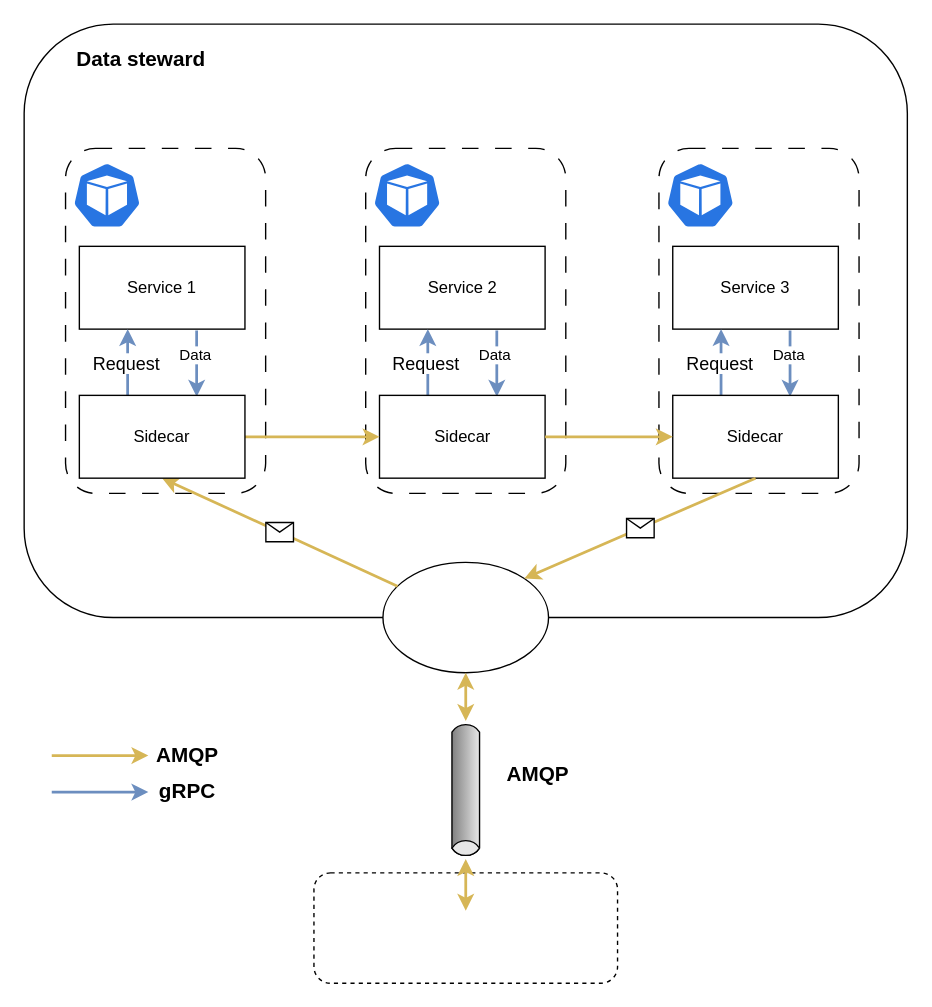
Some shapes in this 932 by 1007 pixel diagram are drawn without their labels. Here are the shapes that lost their labels. From the top down, the centre of each, then its label:
the point at 465,617: Agent
the point at 465,927: Rest of DYNAMOS / Other data stewards
